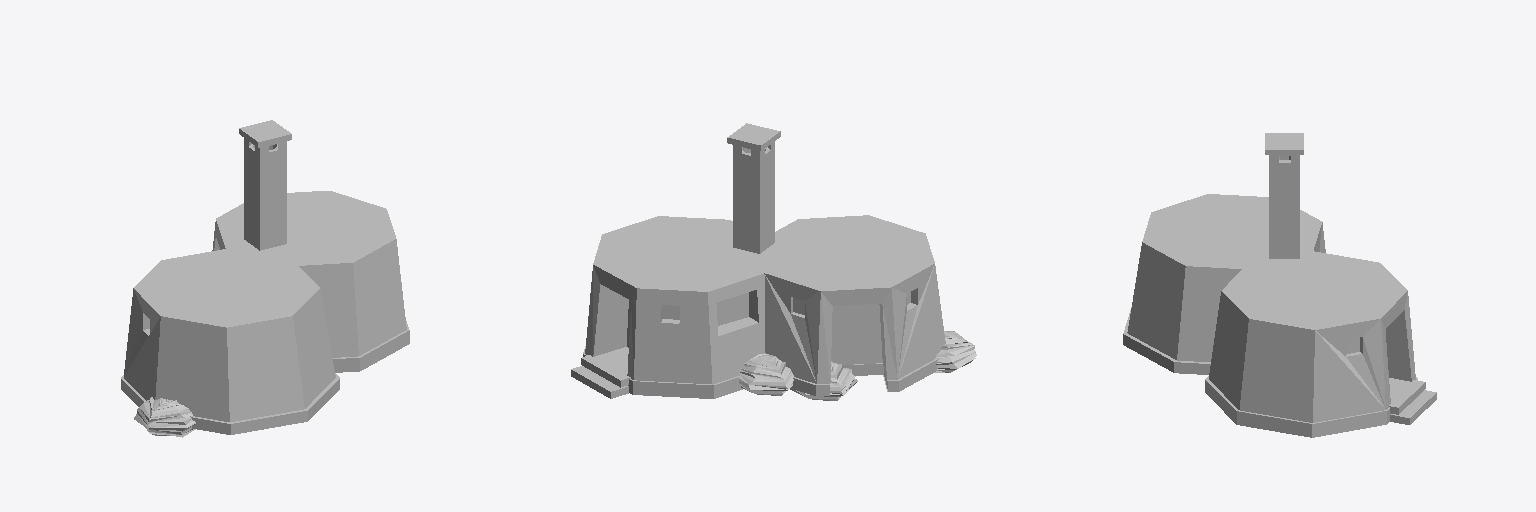
Rendered from base_casa.obj.
3 renders of one model, left to right at view 1: azimuth 30°, elevation 25°; view 2: azimuth 150°, elevation 25°; view 3: azimuth 270°, elevation 25°, orthographic.
Parts seen in each view (by area): view 1: Circle.003, Circle, Cube, Sphere.002; view 2: Circle, Circle.003, Cube, Sphere.001, Cube.010, Sphere.002, Sphere, Cube.011; view 3: Circle, Circle.003, Cube, Cube.010, Cube.011.
Boxes of the visible parts, x1,y1,x2,y2 form: Circle.003: [121, 249, 339, 434]; Circle: [212, 191, 409, 372]; Cube: [239, 120, 291, 250]; Sphere.002: [134, 397, 195, 437]; Circle: [583, 216, 772, 398]; Circle.003: [764, 215, 945, 396]; Cube: [727, 123, 780, 253]; Sphere.001: [739, 353, 793, 395]; Cube.010: [581, 347, 630, 387]; Sphere.002: [934, 331, 976, 372]; Sphere: [790, 361, 857, 400]; Cube.011: [571, 366, 628, 398]; Circle: [1205, 251, 1417, 437]; Circle.003: [1123, 194, 1325, 374]; Cube: [1265, 133, 1303, 258]; Cube.010: [1389, 378, 1425, 414]; Cube.011: [1390, 390, 1436, 424].
Bounding box in the file's own units: 9.78 × 7.09 × 8.37.